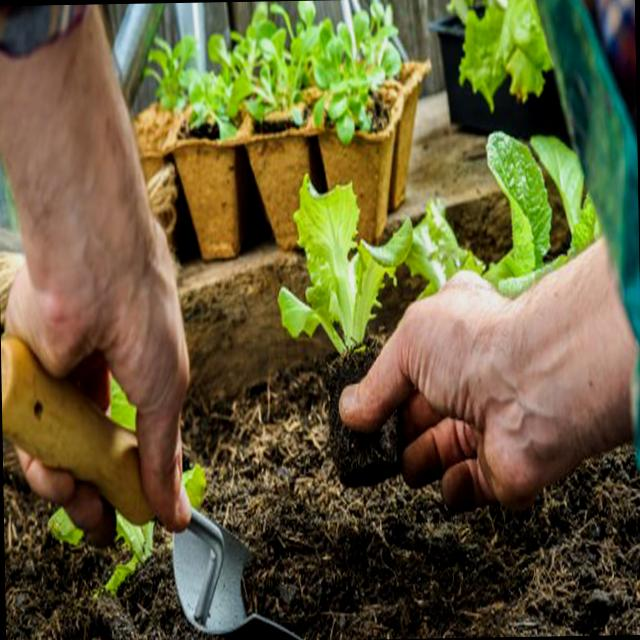verde: (278, 174, 412, 354)
